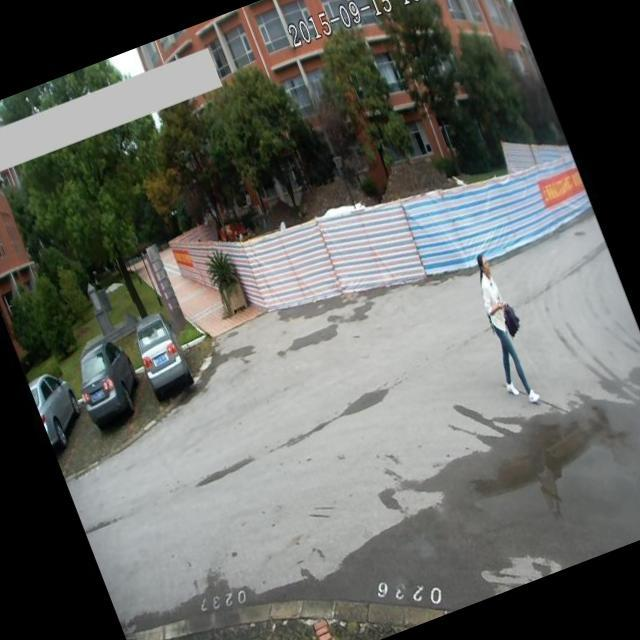person: (460, 250, 551, 412)
